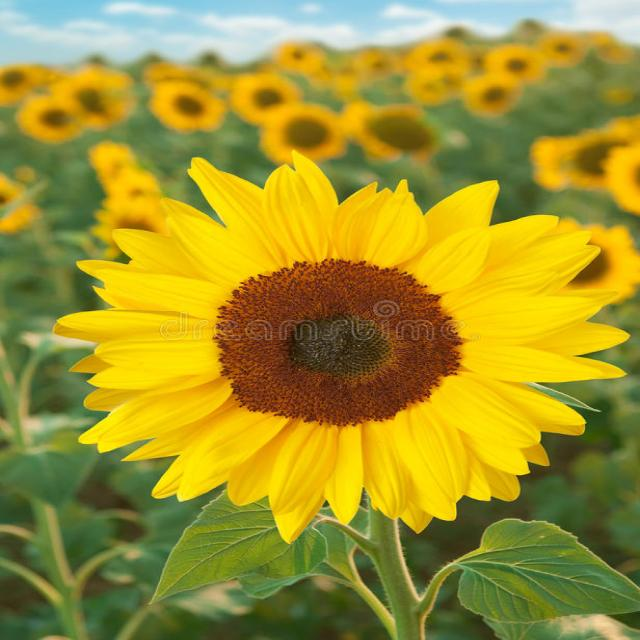sunflower: (57, 153, 621, 532), (336, 97, 443, 166), (252, 99, 355, 170), (142, 76, 224, 134), (13, 96, 95, 146), (460, 67, 531, 120)
